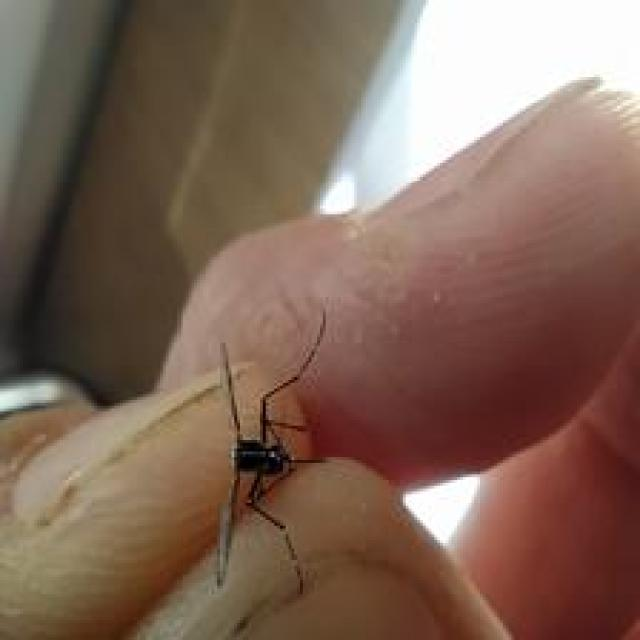Aedes albopictus: (207, 306, 330, 597)
